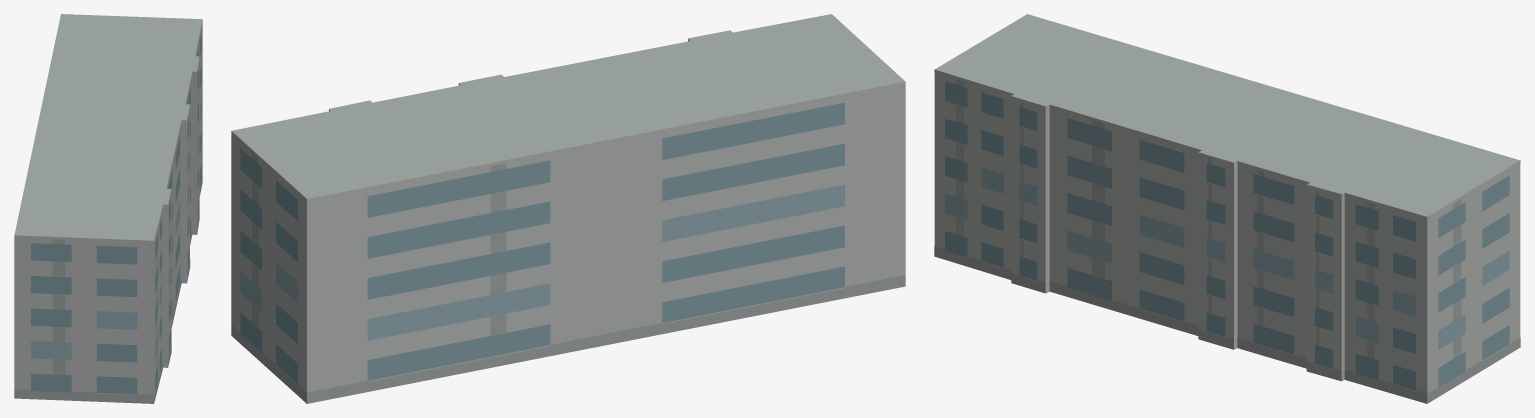
File: residential-df1a6ba2-a29b-4090-a9fa-adf5fa213f5f.glb
The picture shows the model from 3 angles, left to right: view 1: azimuth 30°, elevation 25°; view 2: azimuth 150°, elevation 25°; view 3: azimuth 270°, elevation 25°; orthographic projection. The views are drawn at different scales.
Visible parts, largest first — view 1: residential-df1a6ba2-a29b-4090-a9fa-adf5fa213f5f.tmp; view 2: residential-df1a6ba2-a29b-4090-a9fa-adf5fa213f5f.tmp; view 3: residential-df1a6ba2-a29b-4090-a9fa-adf5fa213f5f.tmp.
Boxes of the visible parts, x1=… form: residential-df1a6ba2-a29b-4090-a9fa-adf5fa213f5f.tmp: x1=14, y1=14, x2=202, y2=403; residential-df1a6ba2-a29b-4090-a9fa-adf5fa213f5f.tmp: x1=231, y1=14, x2=905, y2=403; residential-df1a6ba2-a29b-4090-a9fa-adf5fa213f5f.tmp: x1=934, y1=14, x2=1520, y2=403.
Bounding box in the file's own units: 35.48 × 15.25 × 43.3.
